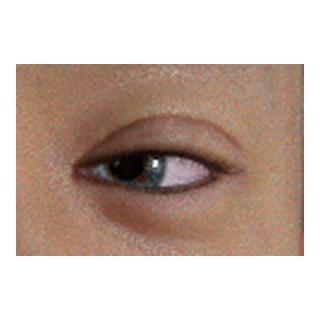pupil: (109, 147, 142, 179)
